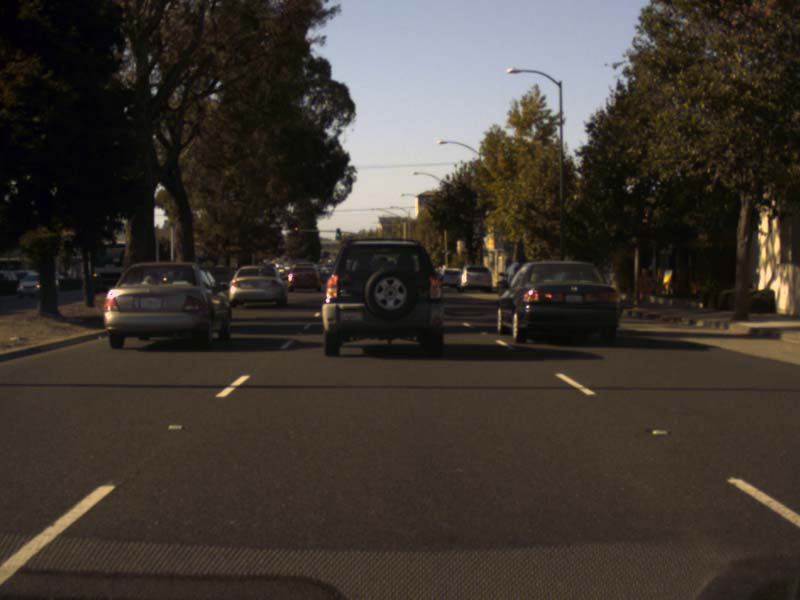Green: (336, 229, 340, 239)
Red: (292, 223, 297, 235)
